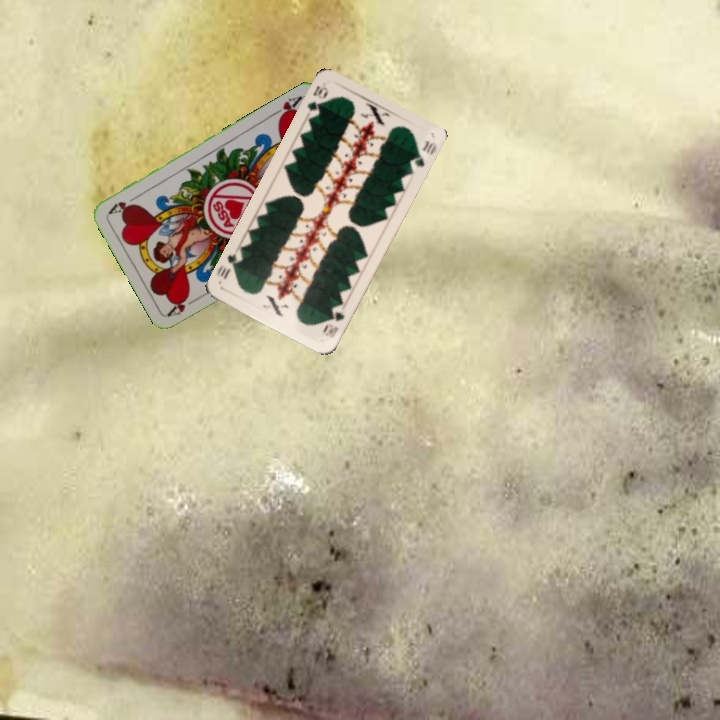G10: (303, 82, 331, 118), (319, 307, 347, 340)
HA: (268, 92, 305, 123), (164, 292, 202, 319)
